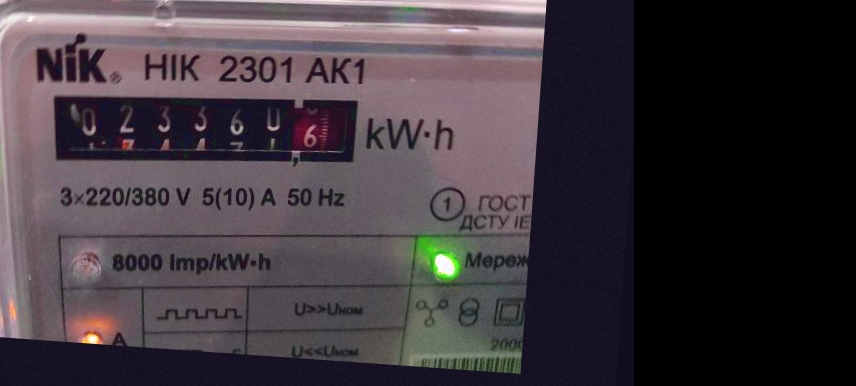0: (75, 102, 100, 137), (259, 101, 283, 133)
2: (115, 100, 137, 134)
3: (189, 98, 210, 132), (151, 101, 172, 133)
6: (224, 102, 247, 137), (298, 116, 321, 151)
screen: (31, 68, 375, 186)
